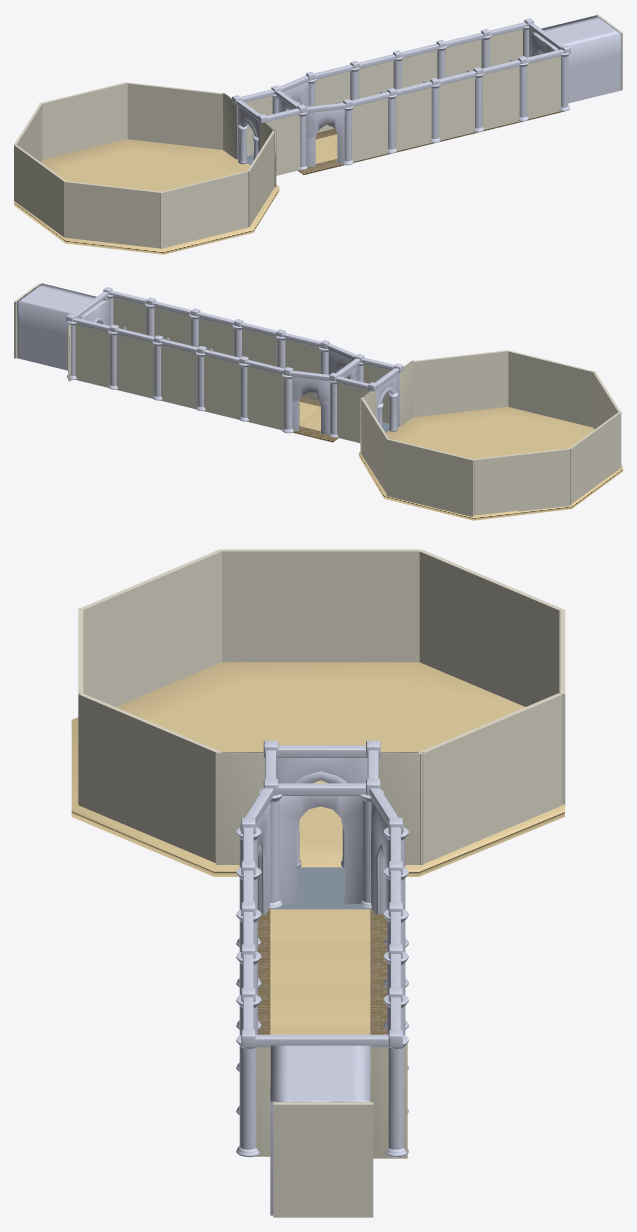
File: ReptileMageSchool_Blockout.gltf
The picture shows the model from 3 angles, top to bottom: view 1: azimuth 30°, elevation 25°; view 2: azimuth 150°, elevation 25°; view 3: azimuth 270°, elevation 25°; orthographic projection. The views are drawn at different scales.
Parts seen in each view (by area): view 1: Floor_Octo, StartingEntrance_LP, Wall_400x214, Wall_400x205, Wall_400x211, Wall_400x201, Wall_400x210, Wall_400x200, Wall_400x204, Wall_400x208, Wall_400x517, Wall_400x504 (+29 smaller); view 2: Floor_Octo, StartingEntrance_LP, Wall_400x213, Wall_400x207, Wall_400x209, Wall_400x203, Wall_400x200, Wall_400x208, Wall_400x204, Wall_400x210, Wall_400x516, Wall_400x503 (+28 smaller); view 3: Floor_Octo, Wall_400x513, Wall_400x206, Wall_400x212, Wall_400x214, Wall_400x201, Wall_400x209, Wall_400x213, Wall_400x205, Wall_400x207, Wall_400x203, Wall_400x211 (+19 smaller).
Boxes of the visible parts, x1=… form: Floor_Octo: x1=14, y1=139, x2=279, y2=254; StartingEntrance_LP: x1=529, y1=15, x2=621, y2=103; Wall_400x214: x1=127, y1=82, x2=176, y2=144; Wall_400x205: x1=64, y1=181, x2=113, y2=242; Wall_400x211: x1=112, y1=186, x2=161, y2=248; Wall_400x201: x1=176, y1=88, x2=224, y2=149; Wall_400x210: x1=160, y1=181, x2=204, y2=248; Wall_400x200: x1=83, y1=82, x2=127, y2=149; Wall_400x204: x1=203, y1=171, x2=247, y2=238; Wall_400x208: x1=39, y1=93, x2=84, y2=159; Wall_400x517: x1=482, y1=66, x2=519, y2=129; Wall_400x504: x1=395, y1=88, x2=431, y2=151; Floor_Octo: x1=359, y1=406, x2=622, y2=520; StartingEntrance_LP: x1=17, y1=283, x2=108, y2=370; Wall_400x213: x1=522, y1=448, x2=570, y2=511; Wall_400x207: x1=473, y1=453, x2=522, y2=515; Wall_400x209: x1=460, y1=350, x2=508, y2=411; Wall_400x203: x1=413, y1=355, x2=460, y2=417; Wall_400x200: x1=386, y1=438, x2=430, y2=506; Wall_400x208: x1=430, y1=449, x2=473, y2=516; Wall_400x204: x1=508, y1=350, x2=552, y2=417; Wall_400x210: x1=551, y1=361, x2=595, y2=427; Wall_400x516: x1=116, y1=334, x2=153, y2=398; Wall_400x503: x1=160, y1=345, x2=197, y2=409; Floor_Octo: x1=71, y1=662, x2=564, y2=876; Wall_400x513: x1=273, y1=1102, x2=373, y2=1217; Wall_400x206: x1=320, y1=549, x2=420, y2=662; Wall_400x212: x1=221, y1=549, x2=320, y2=662; Wall_400x214: x1=488, y1=693, x2=562, y2=834; Wall_400x201: x1=418, y1=723, x2=491, y2=864; Wall_400x209: x1=78, y1=693, x2=151, y2=834; Wall_400x213: x1=419, y1=549, x2=492, y2=691; Wall_400x205: x1=149, y1=549, x2=222, y2=690; Wall_400x207: x1=488, y1=579, x2=562, y2=706; Wall_400x203: x1=148, y1=722, x2=221, y2=862; Wall_400x211: x1=80, y1=579, x2=153, y2=706.
Bounding box in the file's own units: 5263 × 580 × 1978.
Materials: 6 (2 with a texture image).
